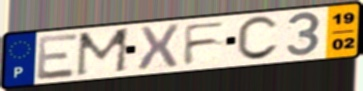3: (285, 9, 322, 60)
C: (235, 14, 281, 63)
E: (36, 31, 82, 82)
F: (182, 20, 230, 67)
M: (73, 26, 134, 79)
X: (135, 22, 181, 73)
